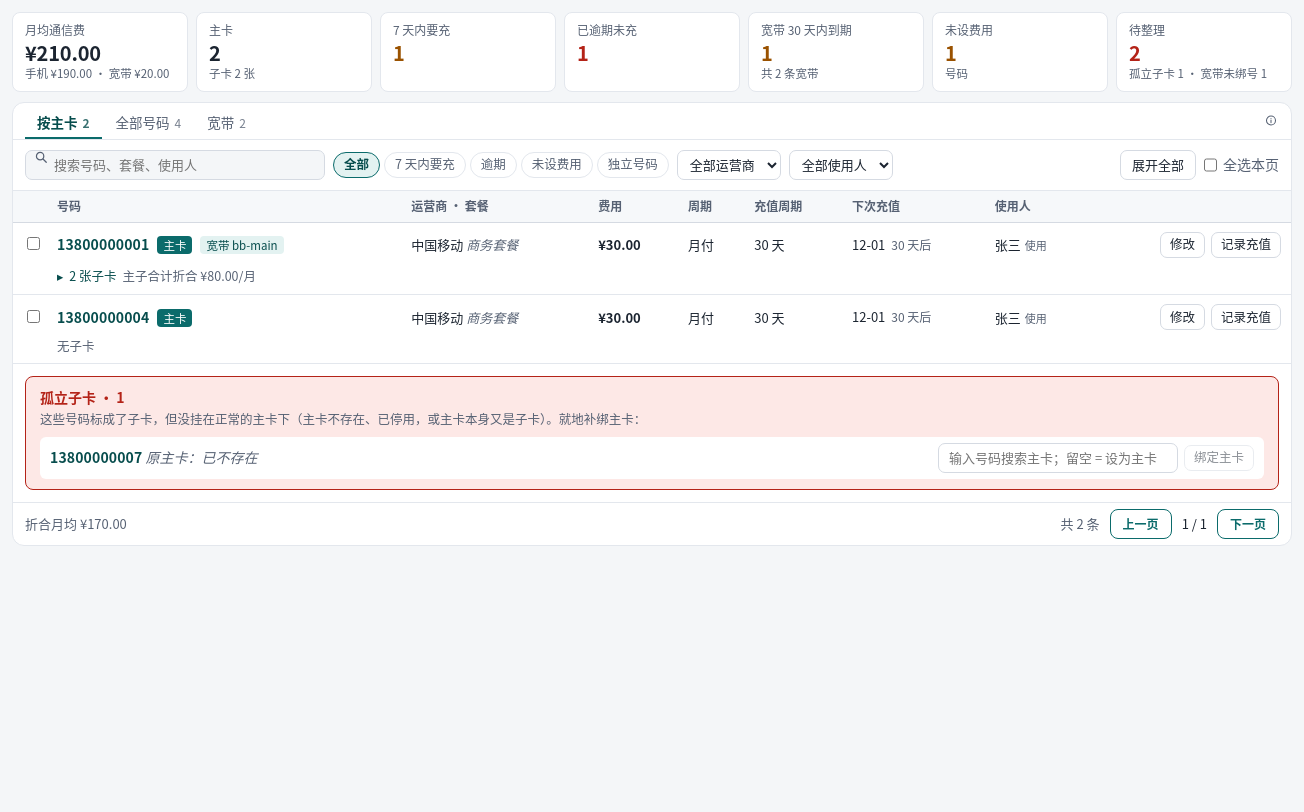
Test: 费用模块：按主卡 › 每张主卡一行，没有子卡的标“无子卡”；展开显示子卡和主子小计
The image size is (1304, 812).
Expected: the link "13800000001" is shown, 57,234 -> 149,254
Expected: the text "无子卡" is shown, 57,336 -> 94,355
Click the button with aria-label "13800000001 的子卡" at (158, 276), box 57,264 -> 260,287
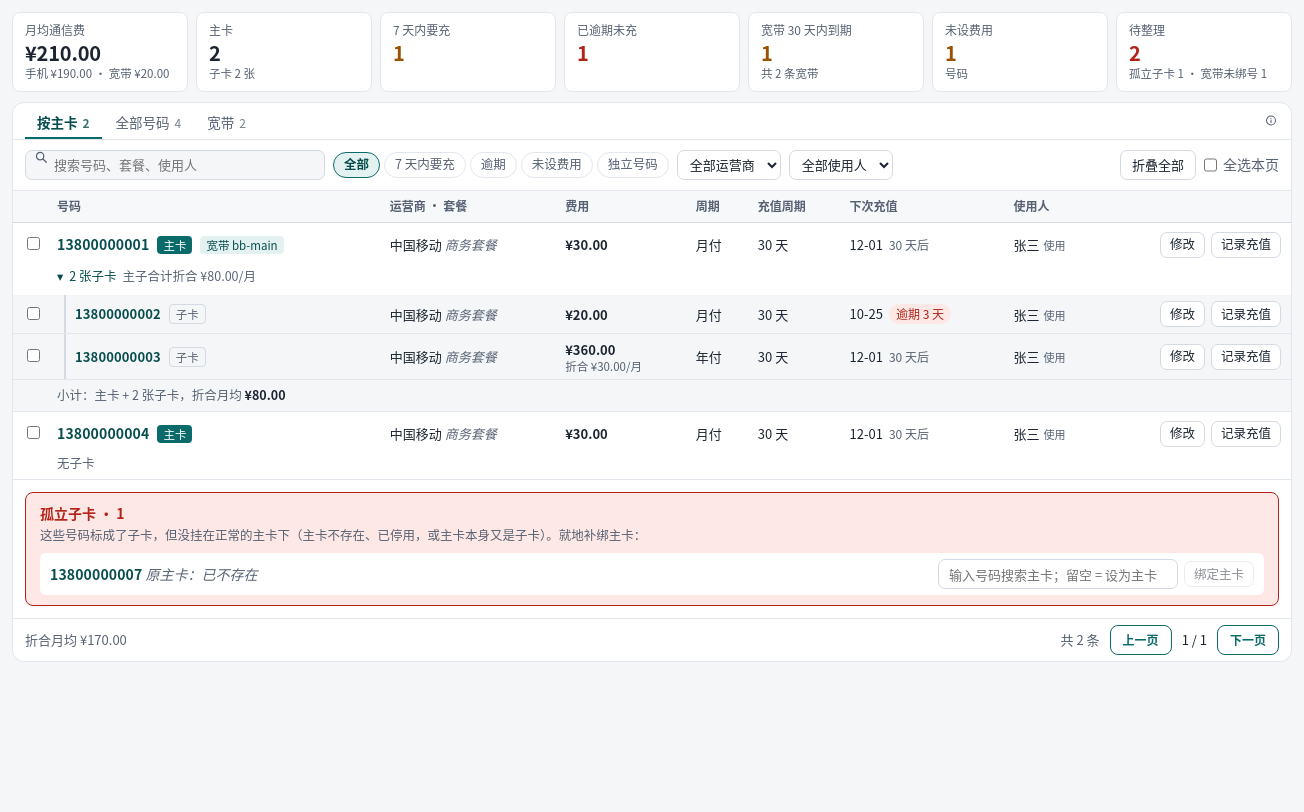
Expected: the link "13800000002" is shown, 75,304 -> 161,323
Expected: the link "13800000003" is shown, 75,347 -> 161,366
Expected: the text "小计：主卡 + 2 张子卡，折合月均 ¥80.00" is shown, 47,380 -> 1291,412
